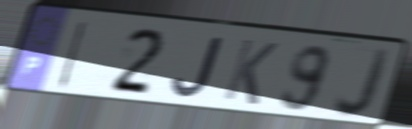2: (104, 27, 168, 98)
9: (278, 43, 333, 113)
I: (54, 19, 91, 91)
J: (331, 45, 395, 121), (169, 34, 227, 100)
K: (219, 36, 281, 108)
